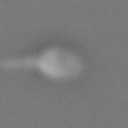normal: (1, 52, 38, 75)
